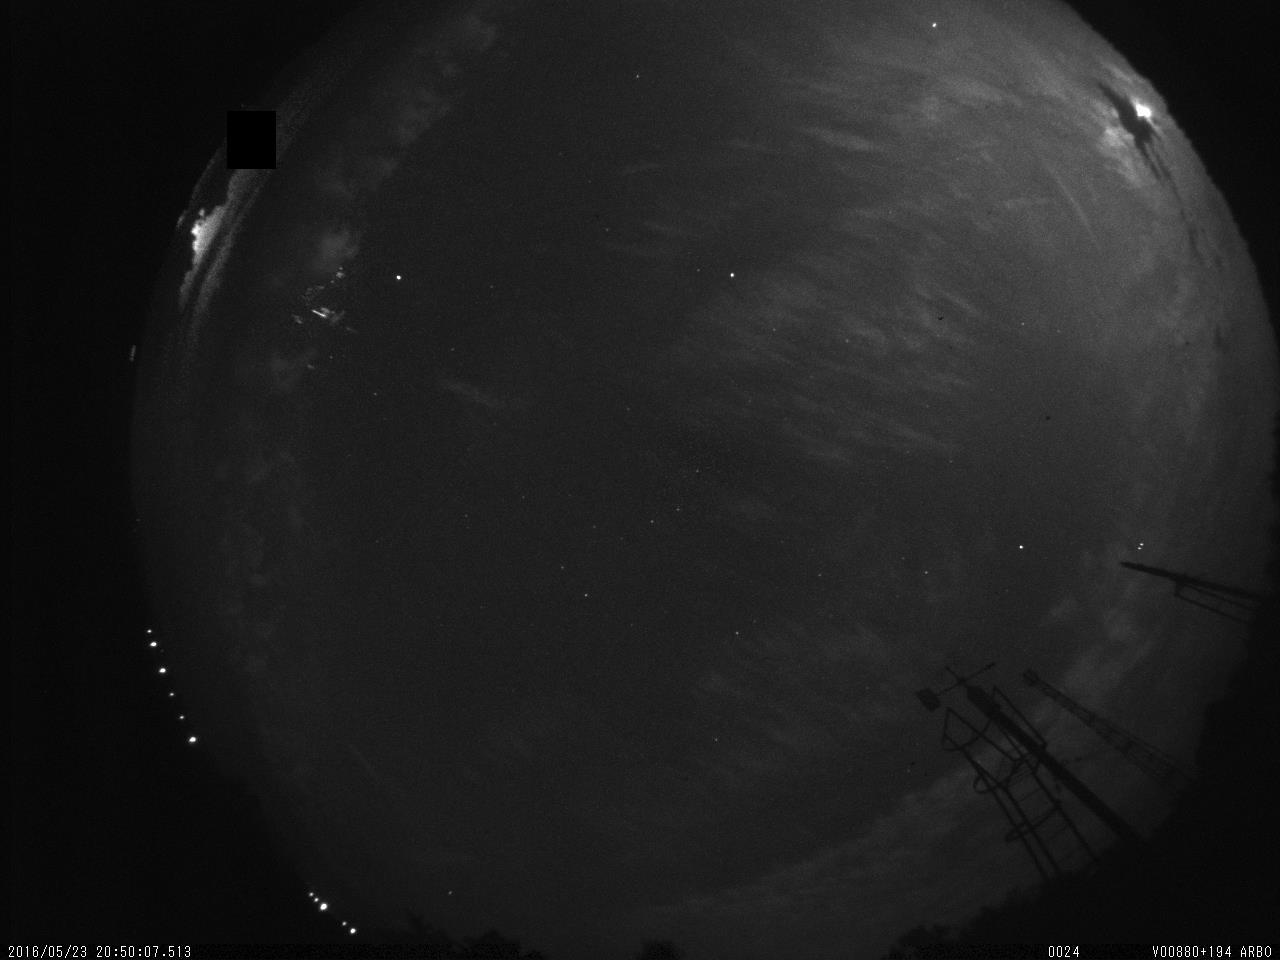TLE: (284, 263, 359, 344)
